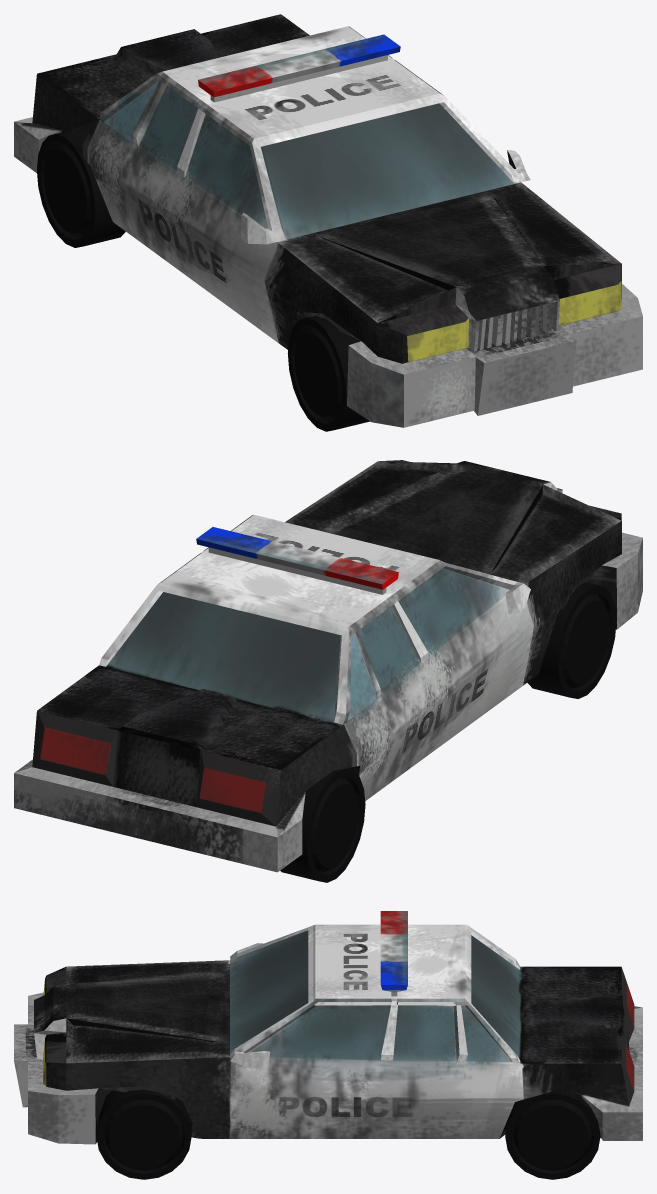
Rendered from POLICE.fbx.
3 views of the same model, one above another, from view 1: azimuth 30°, elevation 25°; view 2: azimuth 150°, elevation 25°; view 3: azimuth 270°, elevation 25° (orthographic). The views are drawn at different scales.
Visible parts, largest first — view 1: pCube1, pCylinder3, pCylinder2; view 2: pCube1, pCylinder2, pCylinder3; view 3: pCube1, pCylinder1, pCylinder4.
Boxes of the visible parts, box(x1,y1,x2,y2) form: pCube1: box(14, 14, 642, 427); pCylinder3: box(37, 132, 125, 247); pCylinder2: box(287, 316, 369, 431); pCube1: box(14, 460, 642, 872); pCylinder2: box(527, 582, 616, 698); pCylinder3: box(280, 768, 365, 882); pCube1: box(14, 911, 642, 1144); pCylinder1: box(96, 1089, 191, 1179); pCylinder4: box(505, 1090, 600, 1179).
Size of the model in its own units: 7.38 by 5.55 by 17.74.
